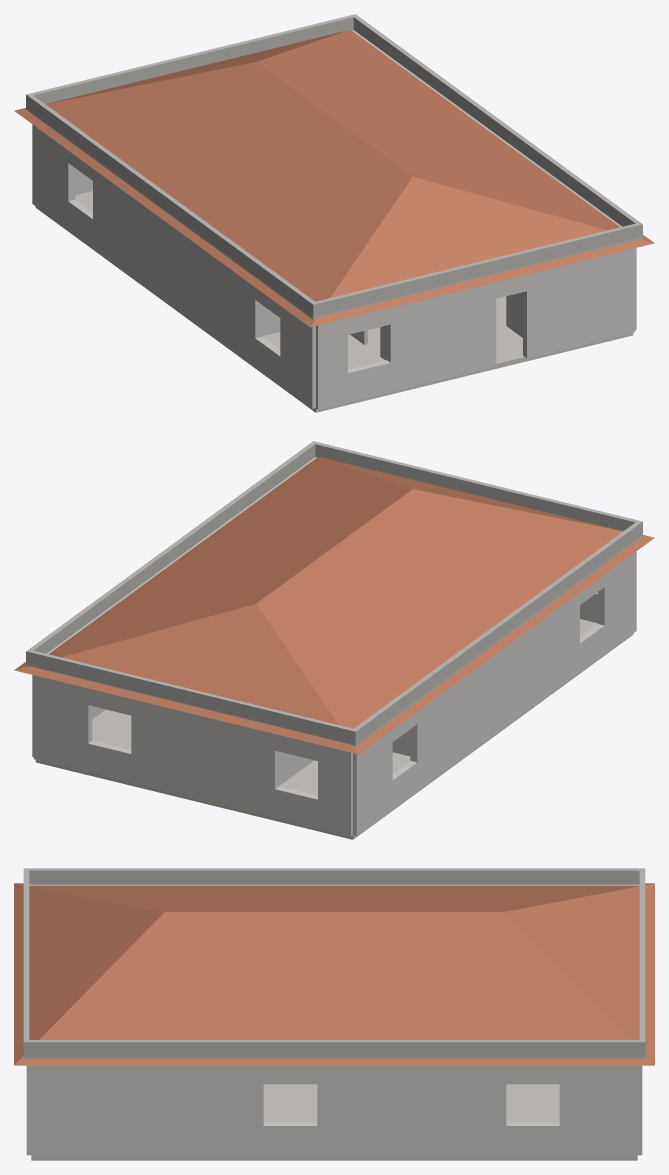
The model's file is plan_8ae6bbd1a600.glb.
3 renders of one model, top to bottom at view 1: azimuth 30°, elevation 25°; view 2: azimuth 150°, elevation 25°; view 3: azimuth 270°, elevation 25°, orthographic. The views are drawn at different scales.
Parts seen in each view (by area): view 1: roof_tiles, walls, roof_flat, room_bedroom_2, room_living, room_parking; view 2: roof_tiles, walls, roof_flat, room_bedroom_3, room_master; view 3: roof_tiles, walls, roof_flat, room_bedroom_3, room_kitchen, room_parking.
Part boxes in pixels (left/top/right/bottom): roof_tiles: left=14, top=30, right=654, bottom=327; walls: left=32, top=124, right=636, bottom=409; roof_flat: left=26, top=14, right=642, bottom=319; room_bedroom_2: left=227, top=332, right=418, bottom=412; room_living: left=474, top=317, right=544, bottom=373; room_parking: left=496, top=296, right=633, bottom=356; roof_tiles: left=14, top=457, right=654, bottom=754; walls: left=32, top=551, right=636, bottom=836; roof_flat: left=26, top=441, right=642, bottom=746; room_bedroom_3: left=35, top=709, right=187, bottom=799; room_master: left=244, top=752, right=449, bottom=839; roof_tiles: left=14, top=883, right=654, bottom=1065; walls: left=26, top=1065, right=642, bottom=1157; roof_flat: left=23, top=868, right=645, bottom=1058; room_bedroom_3: left=428, top=1084, right=637, bottom=1160; room_kitchen: left=224, top=1084, right=356, bottom=1160; room_parking: left=31, top=1157, right=223, bottom=1160.
Bounding box in the file's own units: 11.26 × 4.75 × 16.75.
